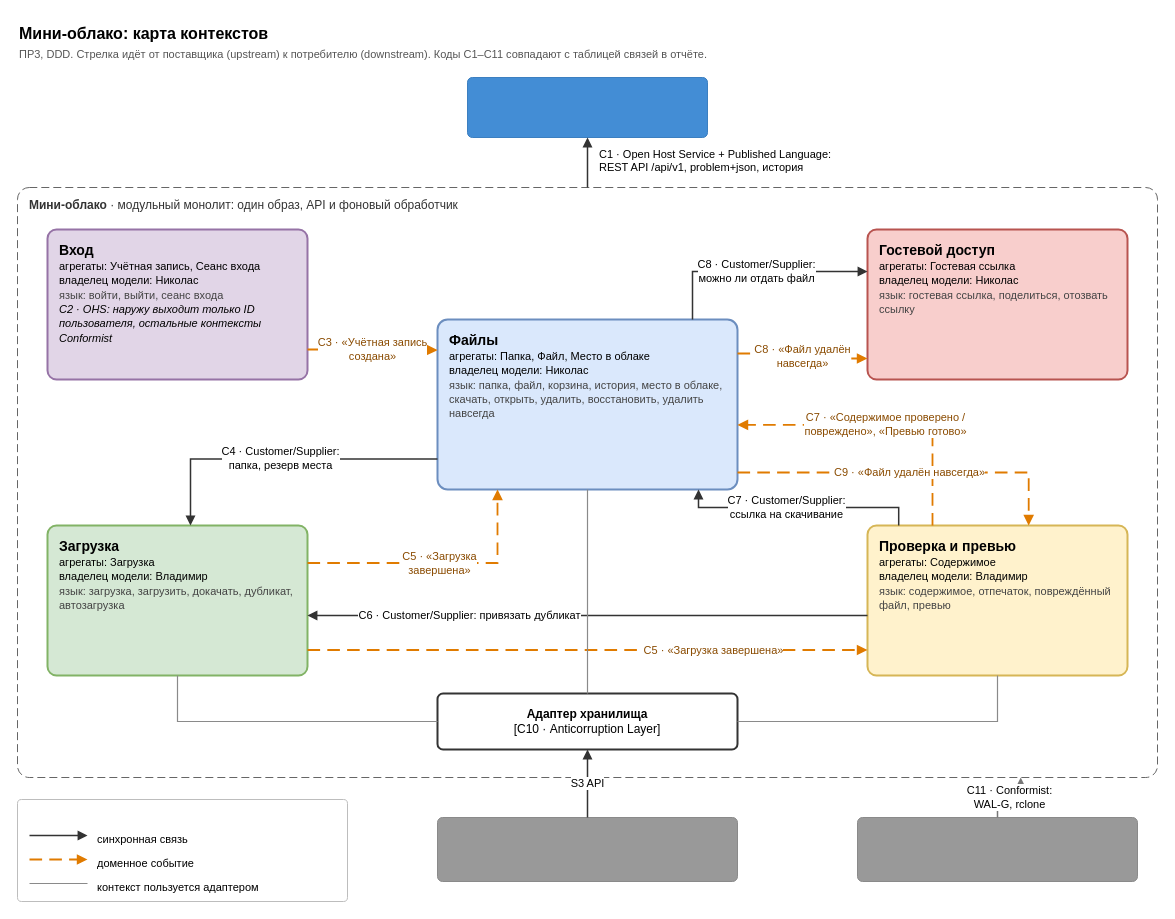
Some shapes in this 1175 by 919 pixel diagram are drawn without their labels. Each missing label, with the box of its shape:
PWA-клиент [умный клиент]: (466, 76, 708, 138)
Обозначения: (16, 798, 348, 902)
Хранилище S3 (Garage) [чужая модель: бакеты, объекты, UploadId]: (436, 816, 738, 882)
Хранилище резервных копий [внешняя система]: (856, 816, 1138, 882)
